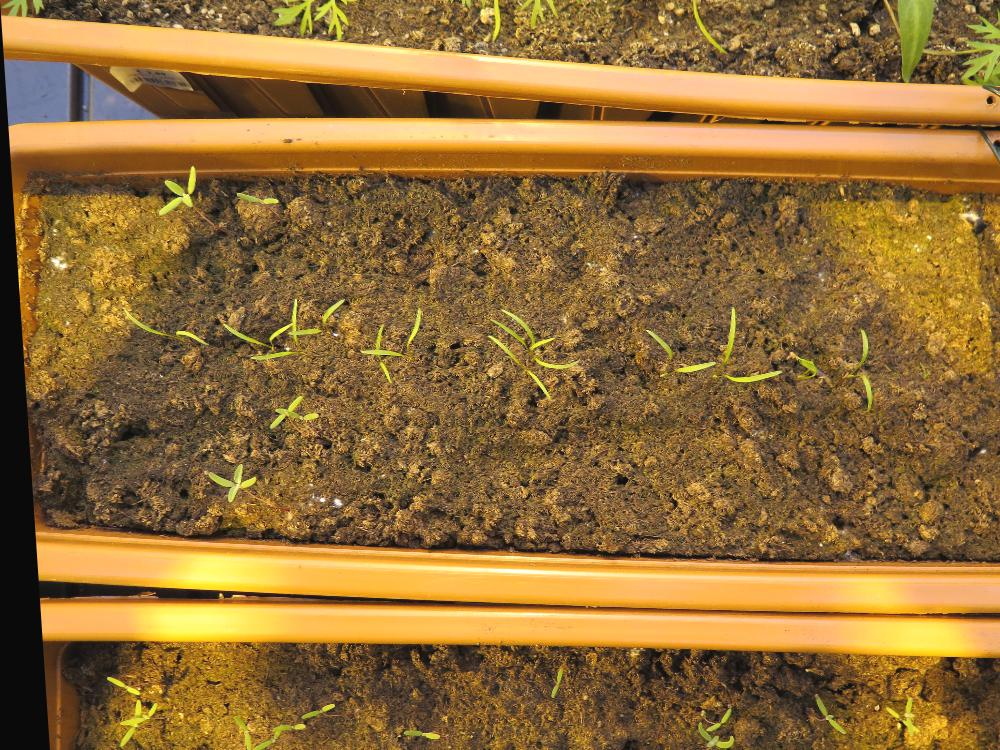crop: (710, 300, 777, 384), (115, 303, 205, 347), (637, 324, 711, 375), (846, 323, 868, 413)
weed: (151, 163, 195, 217), (197, 459, 249, 503), (802, 692, 836, 736), (94, 674, 130, 695), (289, 701, 326, 718), (232, 190, 276, 204), (538, 666, 555, 699), (391, 726, 430, 740)
